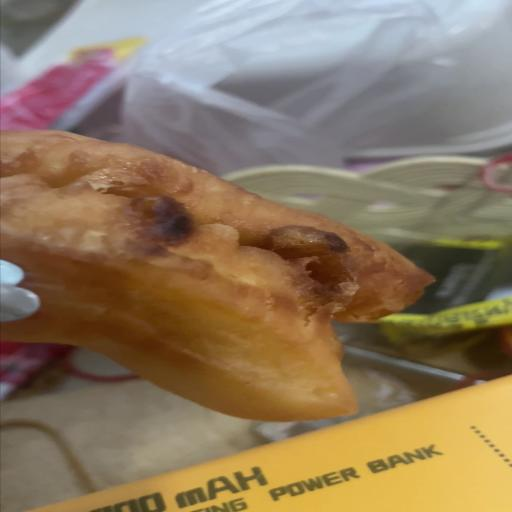street_burnt_defect: (0, 128, 434, 423)
